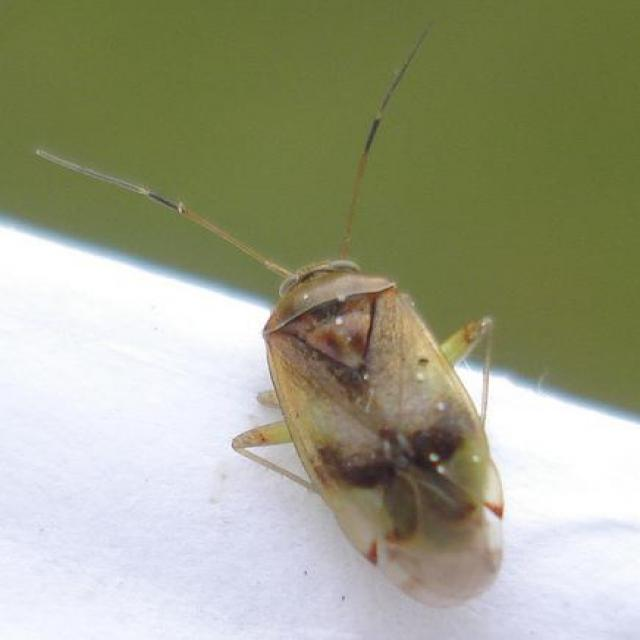Miridae-Adult-: (50, 26, 534, 609)
